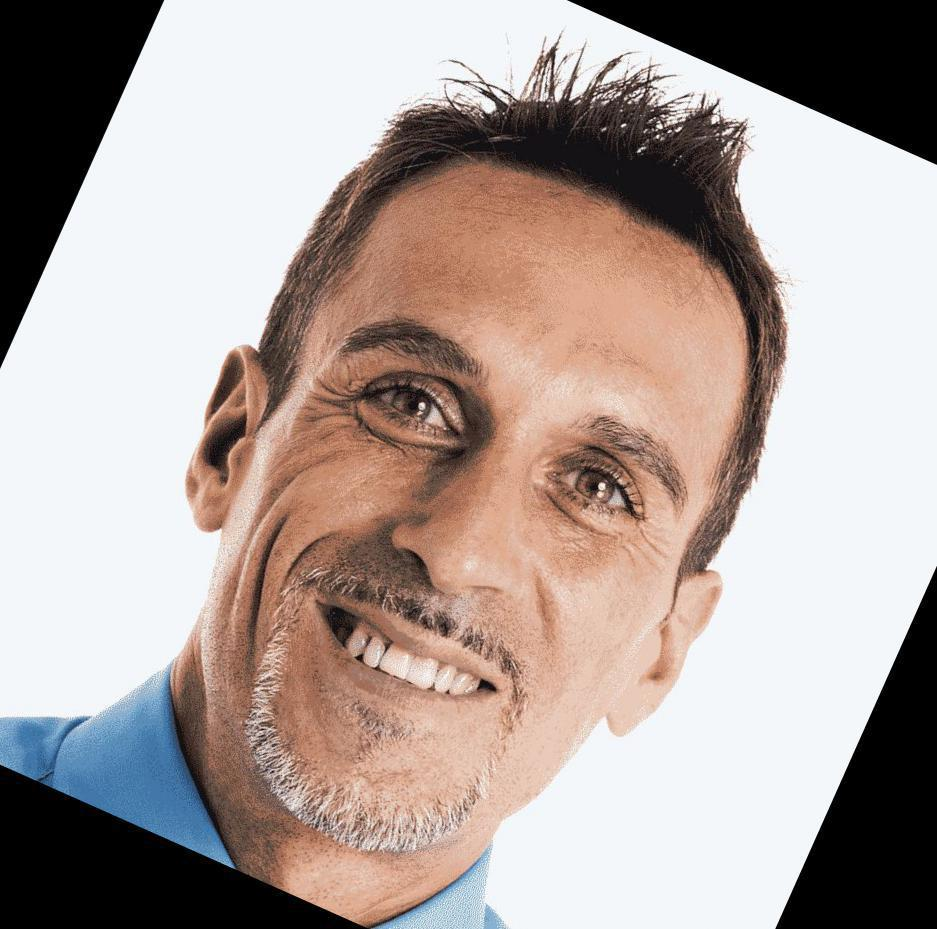Sober: (285, 222, 690, 766)
